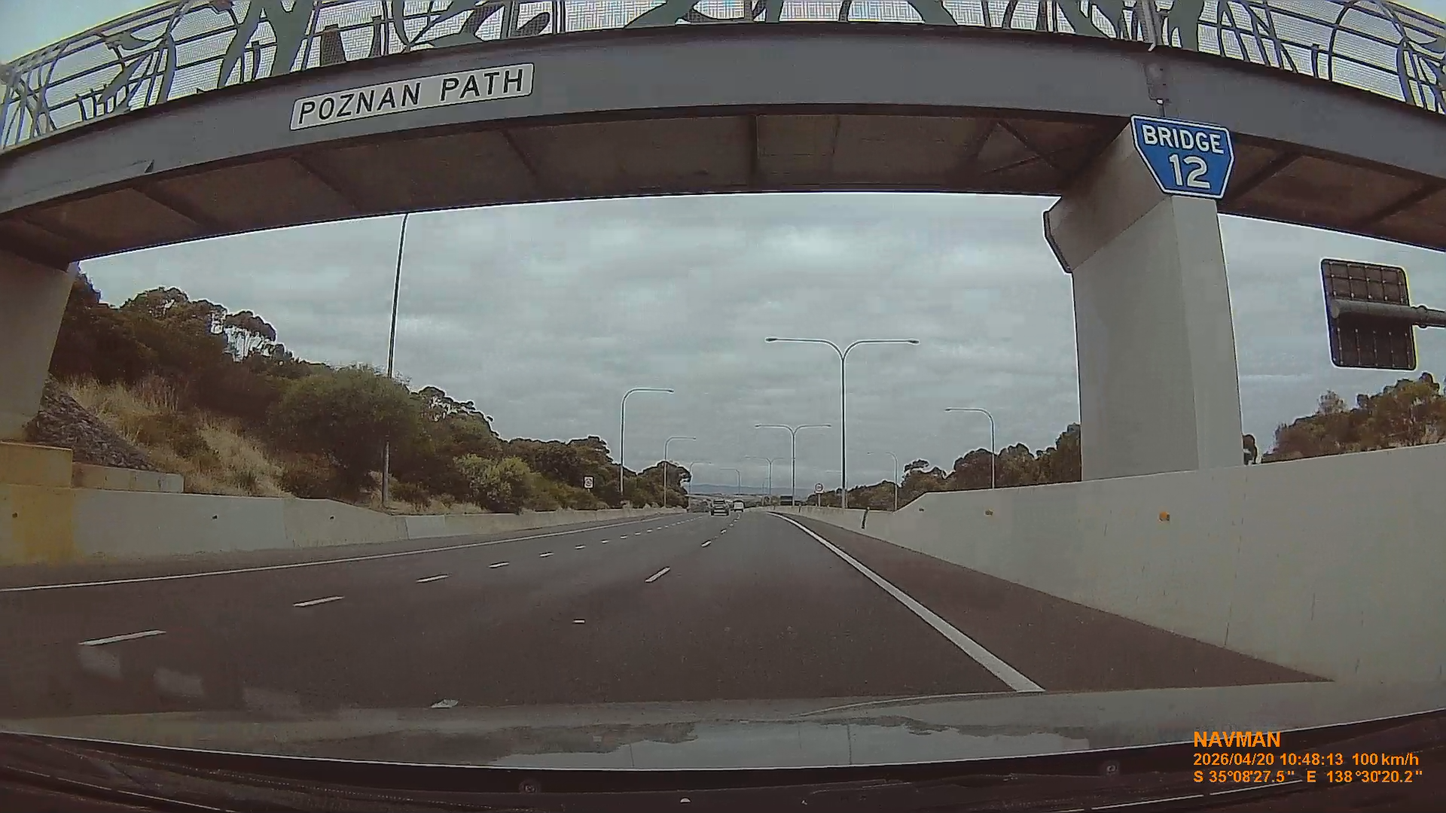road barriers: (776, 443, 1445, 682), (0, 485, 684, 560)
